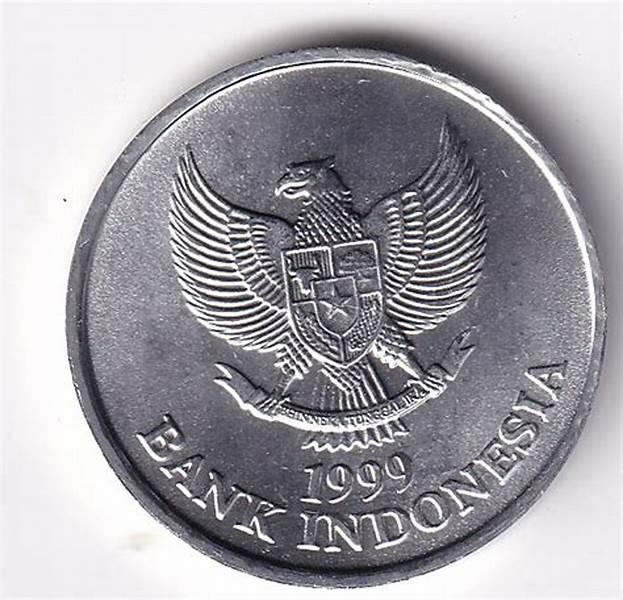coin_100_e1999: (51, 30, 613, 594)
